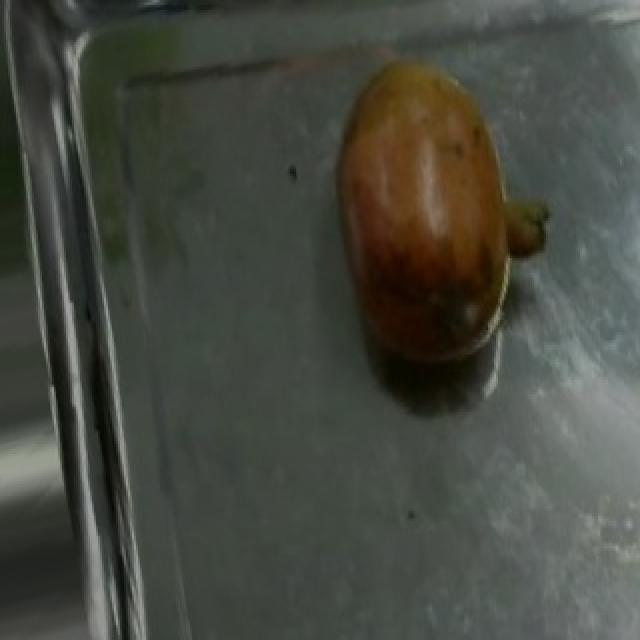fruit: (326, 136, 540, 390)
